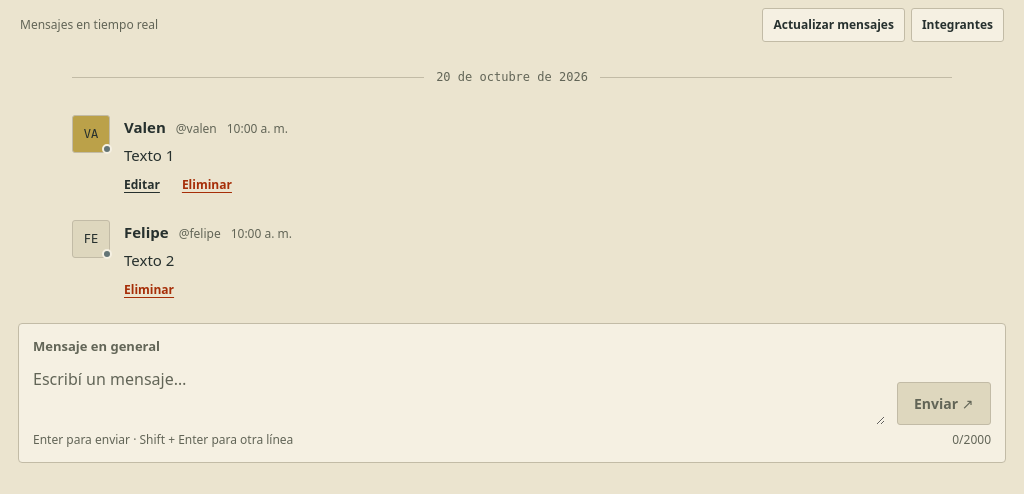
Test case: los integrantes son consultables bajo demanda
The width and height of the screenshot is (1024, 494).
Expected: the text "Integrantes de la comunidad" is not shown
Click the button "Integrantes" at {"x": 957, "y": 25}, box [911, 8, 1004, 42]
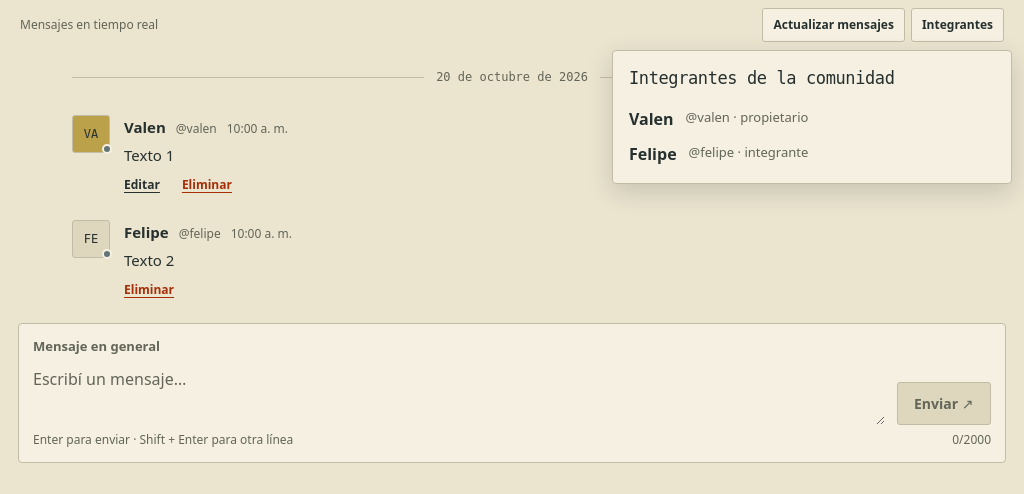
Expected: the heading "Integrantes de la comunidad" is shown, [629, 68, 894, 88]
Press Escape in the element named "Chat de general"
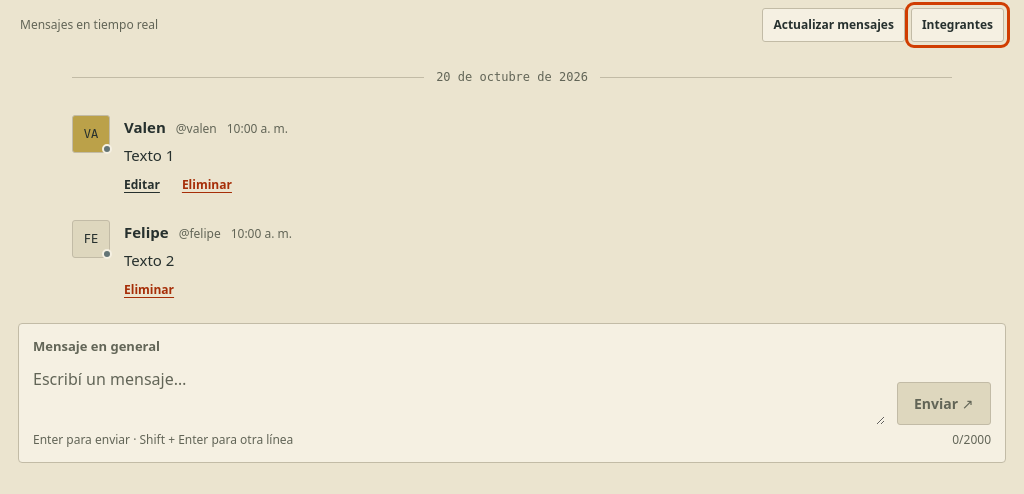
Expected: the heading "Integrantes de la comunidad" is gone
